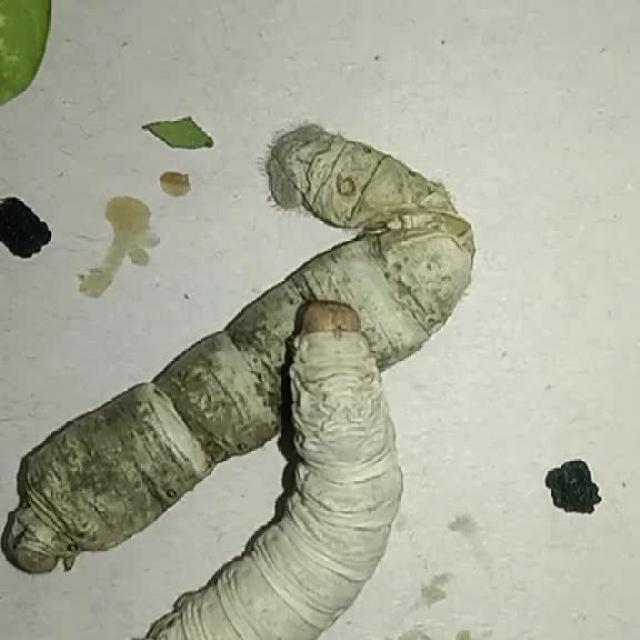Grasserie: (9, 106, 480, 574)
